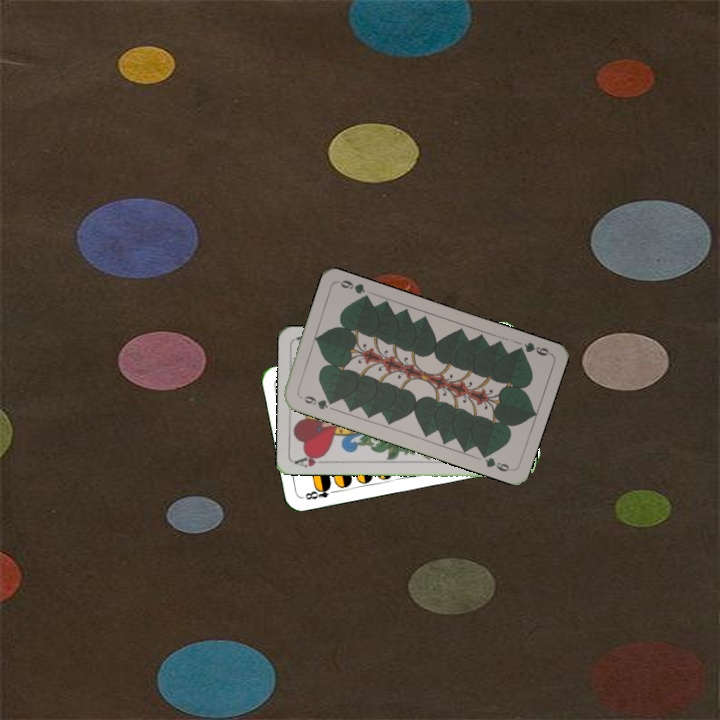E8: (301, 482, 339, 502)
G9: (511, 338, 553, 358), (296, 392, 337, 412)
HA: (291, 450, 332, 470)
